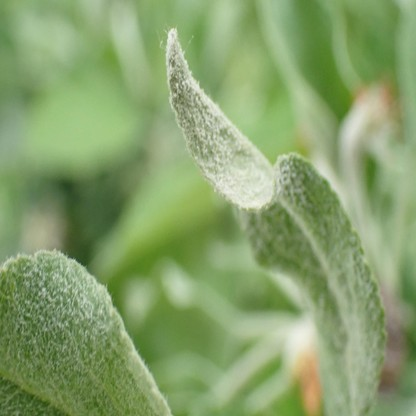powder: (166, 26, 386, 416), (2, 246, 171, 416)
